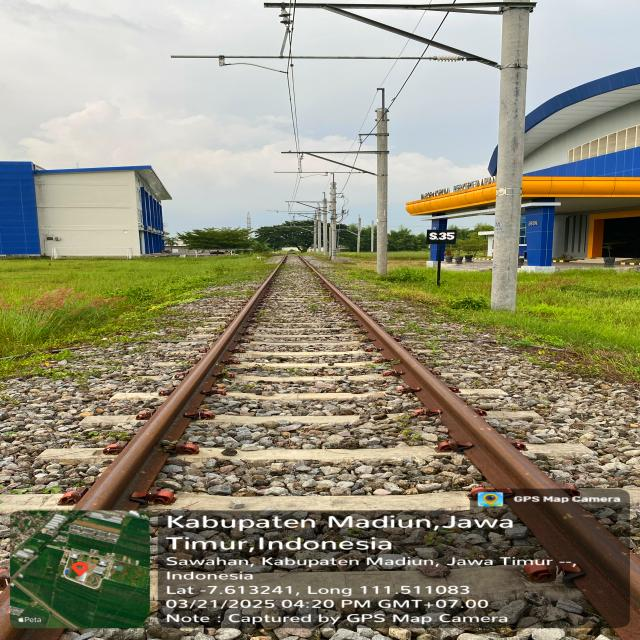rail-detection: (301, 259, 551, 489), (73, 258, 287, 510)
